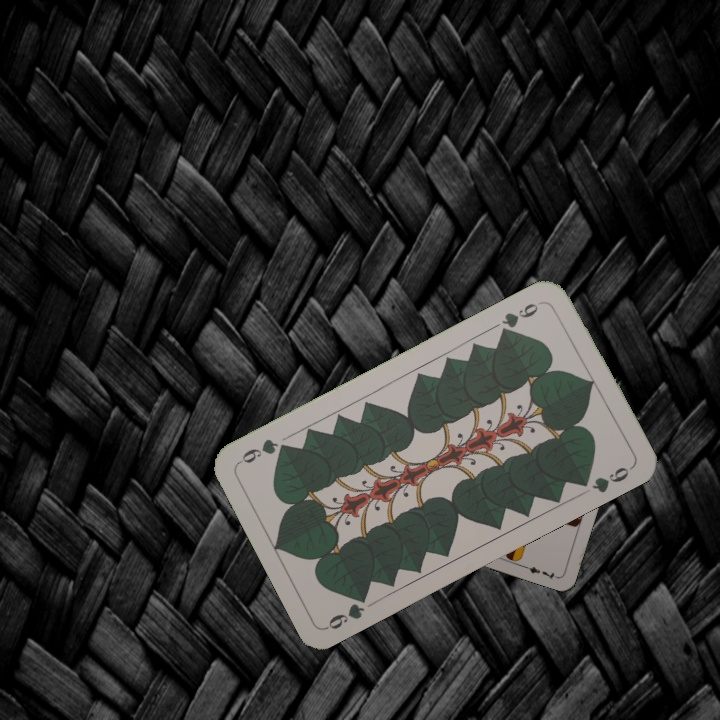G9: (322, 588, 371, 632), (496, 297, 547, 338)
